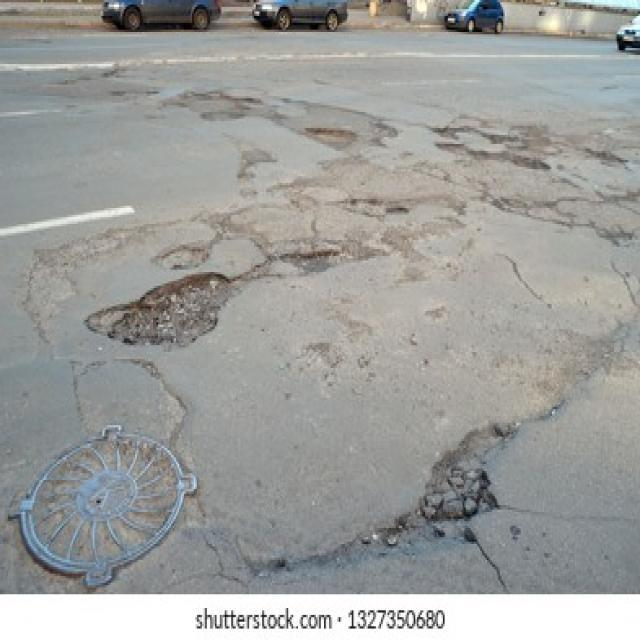Pothole: (85, 272, 232, 350), (153, 245, 212, 272), (278, 252, 342, 274), (304, 124, 356, 148), (586, 146, 629, 165), (434, 142, 468, 156), (386, 206, 409, 215)
